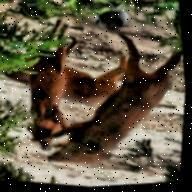boar: (7, 22, 117, 173)
